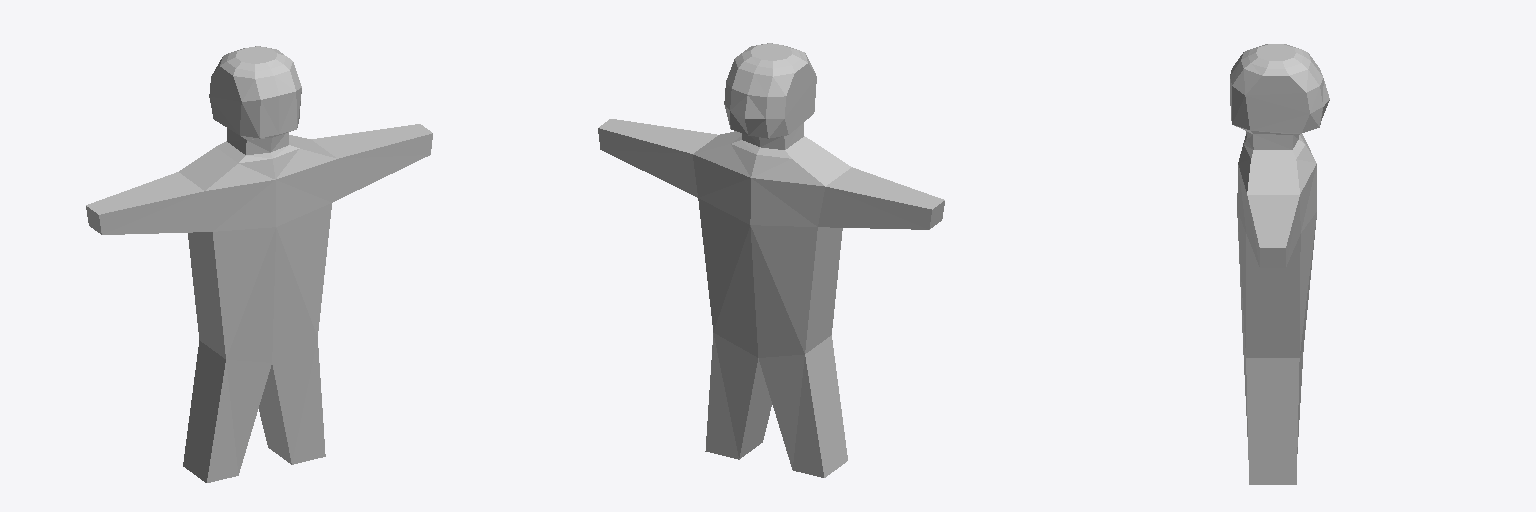
File: person_2.obj
3 views of the same model, side by side, from view 1: azimuth 30°, elevation 25°; view 2: azimuth 150°, elevation 25°; view 3: azimuth 270°, elevation 25° (orthographic).
Visible parts, largest first — view 1: Cube; view 2: Cube; view 3: Cube.
Part boxes in pixels (x1,y1,x2,y2): Cube: (86, 46, 432, 482); Cube: (598, 43, 944, 477); Cube: (1230, 44, 1329, 484).
Bounding box in the file's own units: 5.06 × 5.86 × 1.31.